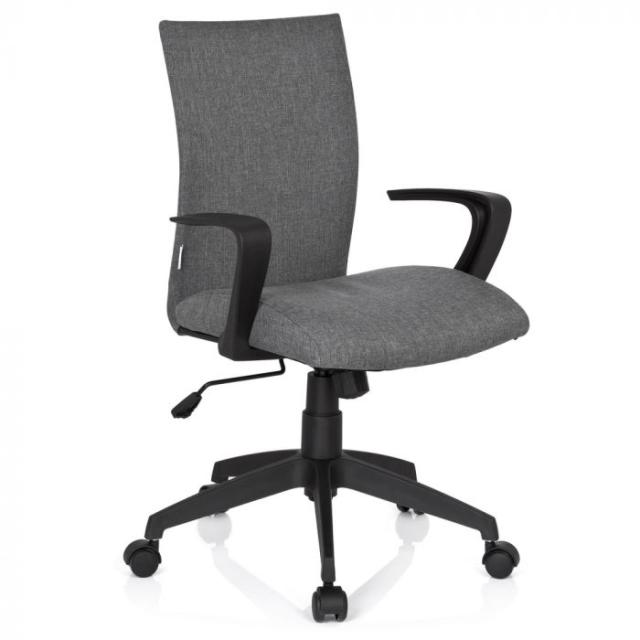chair: (121, 12, 530, 623)
